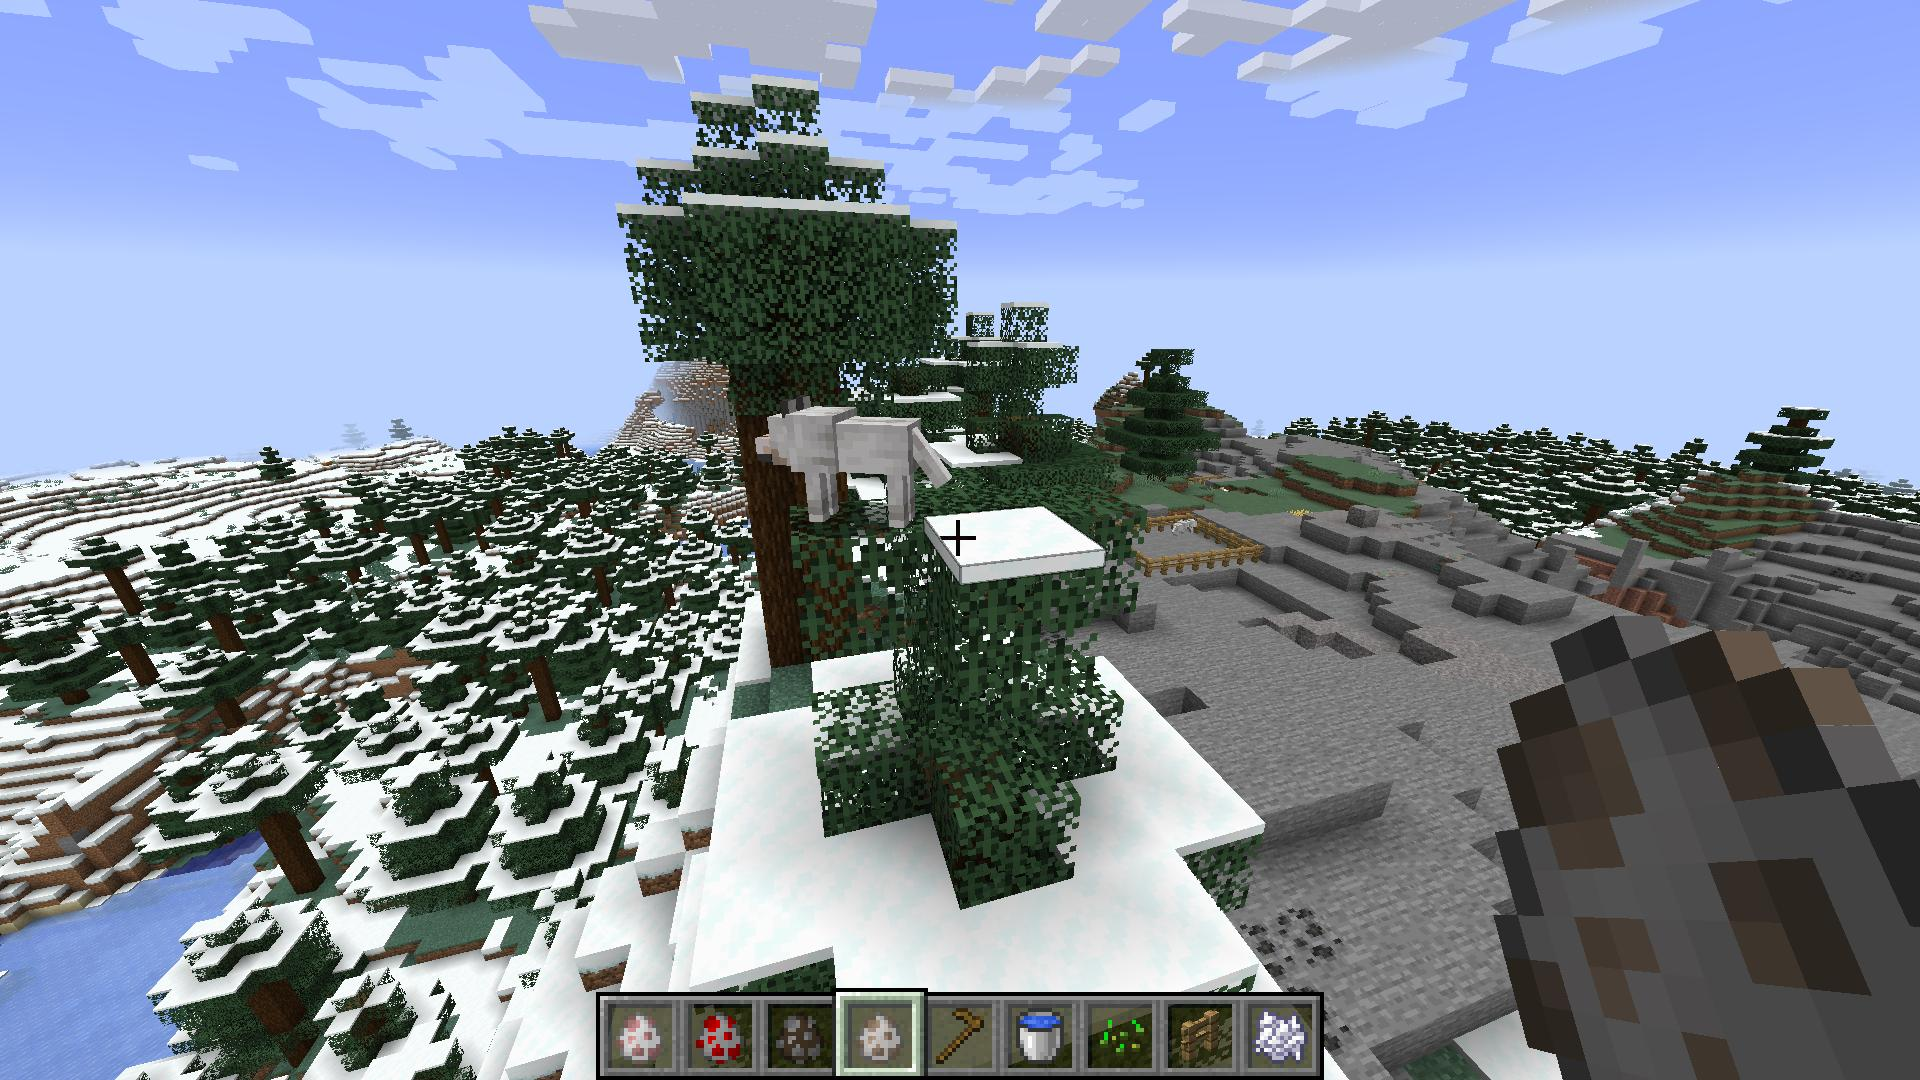wolf: (748, 390, 953, 538)
